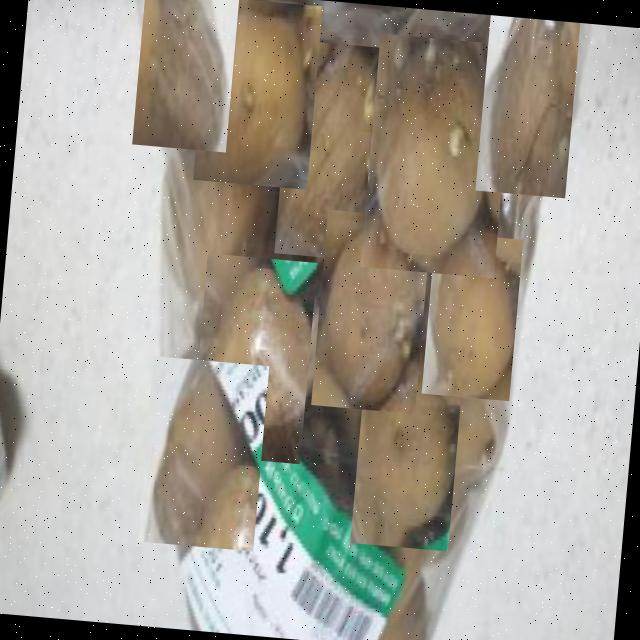Damaged potato: (189, 252, 316, 463), (136, 354, 268, 550), (310, 208, 430, 412), (349, 364, 462, 550), (474, 13, 580, 196), (146, 146, 266, 304), (420, 230, 522, 400), (130, 0, 238, 151)
Sprouted potato: (359, 32, 513, 277), (273, 38, 395, 260), (191, 0, 322, 188)
